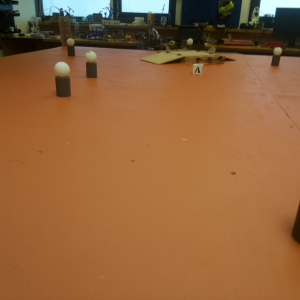blockA: (192, 64, 203, 74)
corner: (58, 16, 74, 38)
obstacle: (54, 63, 72, 97), (85, 49, 102, 80), (266, 43, 283, 71), (66, 37, 77, 56), (183, 36, 195, 48)
side: (186, 56, 226, 64)
slope: (141, 50, 185, 65)
